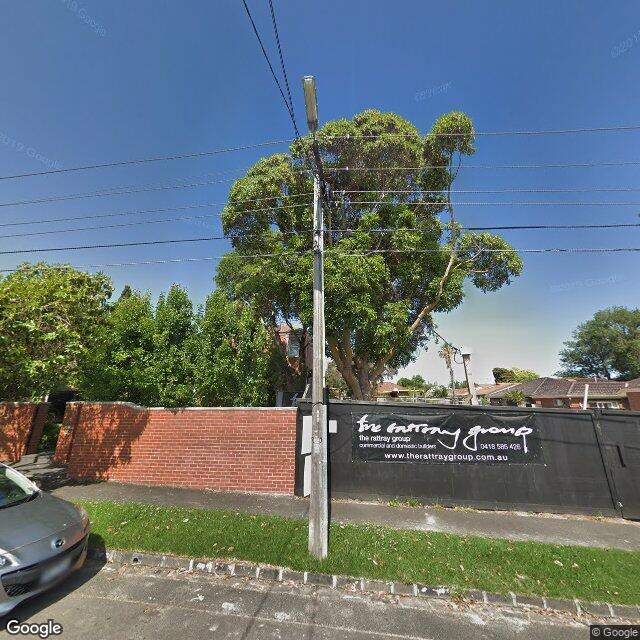crossarm: (312, 141, 334, 211)
streetlight: (302, 76, 320, 140)
timber-pole: (307, 173, 329, 556)
